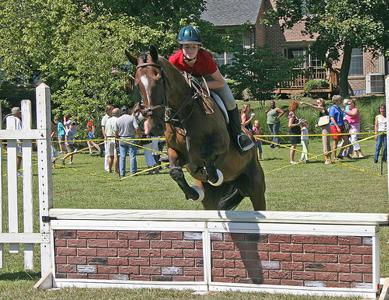person: (167, 26, 256, 155)
